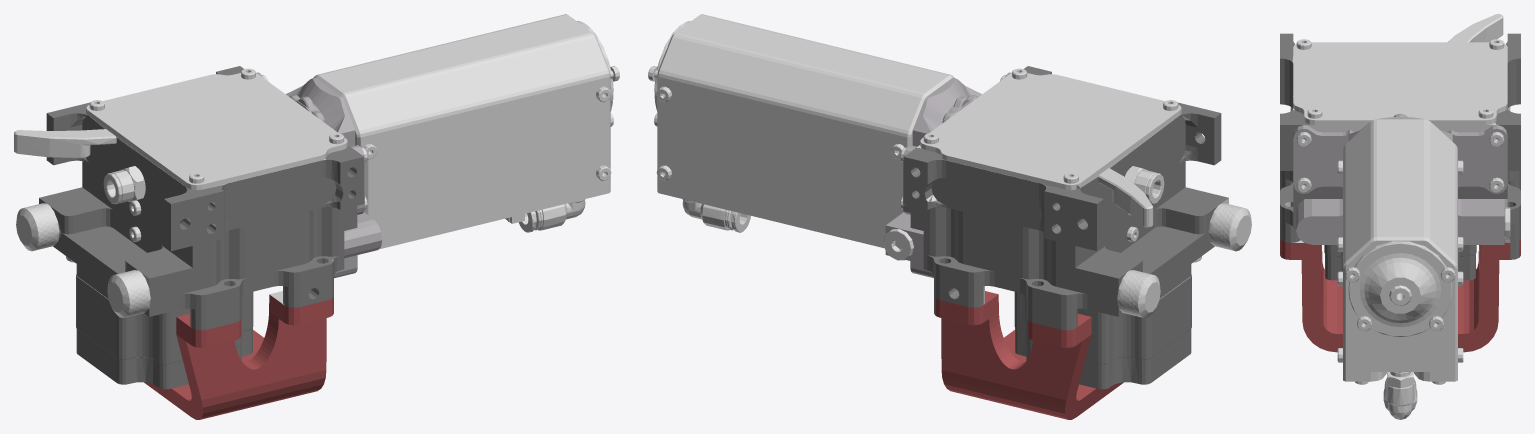
File: typhoon_extruder.dae
The picture shows the model from 3 angles, left to right: view 1: azimuth 30°, elevation 25°; view 2: azimuth 150°, elevation 25°; view 3: azimuth 270°, elevation 25°; orthographic projection. The views are drawn at different scales.
Parts seen in each view (by area): view 1: typhoon_extruder; view 2: typhoon_extruder; view 3: typhoon_extruder.
Boxes of the visible parts, x1,y1,x2,y2 form: typhoon_extruder: (14,14,619,419); typhoon_extruder: (648,14,1251,419); typhoon_extruder: (1280,14,1520,419).
Size of the model in its own units: 0.224 by 0.0898 by 0.1067.
